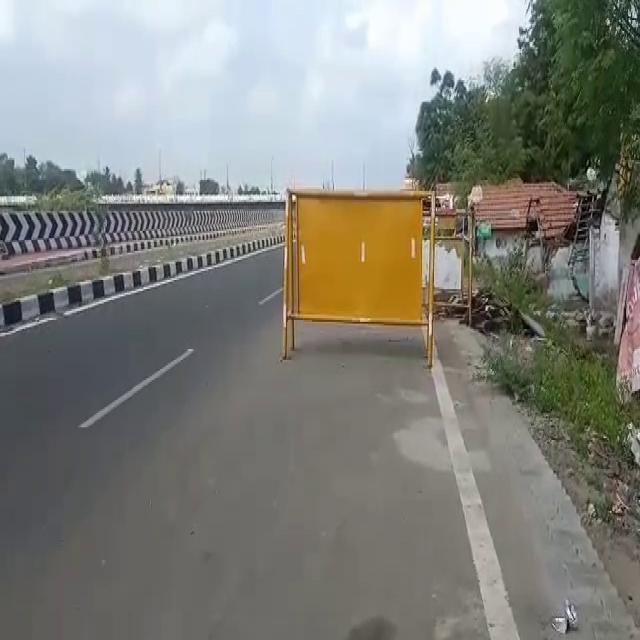fallen_object: (260, 176, 453, 376)
